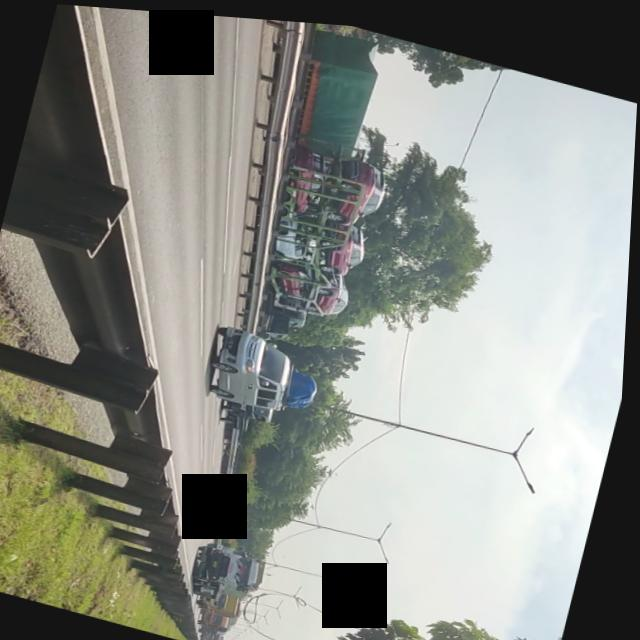Golongan I: (202, 315, 307, 414)
